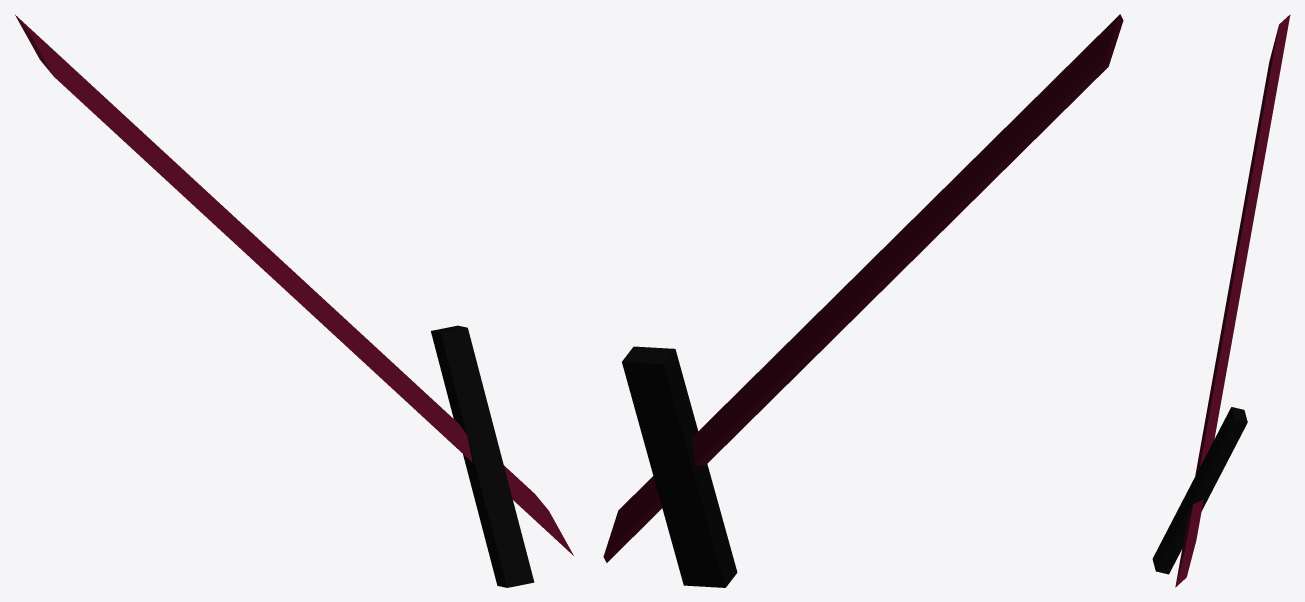
The model's file is sword.fbx.
3 renders of one model, left to right at view 1: azimuth 30°, elevation 25°; view 2: azimuth 150°, elevation 25°; view 3: azimuth 270°, elevation 25°, orthographic. The views are drawn at different scales.
Visible parts, largest first — view 1: Blade, base; view 2: Blade, base; view 3: Blade, base.
Boxes of the visible parts, left/top/right/bottom form: Blade: left=15, top=15, right=573, bottom=555; base: left=431, top=325, right=534, bottom=587; Blade: left=603, top=14, right=1123, bottom=562; base: left=622, top=346, right=737, bottom=587; Blade: left=1175, top=14, right=1290, bottom=587; base: left=1152, top=407, right=1247, bottom=574.
Size of the model in its own units: 3.51 by 4.26 by 1.27.
